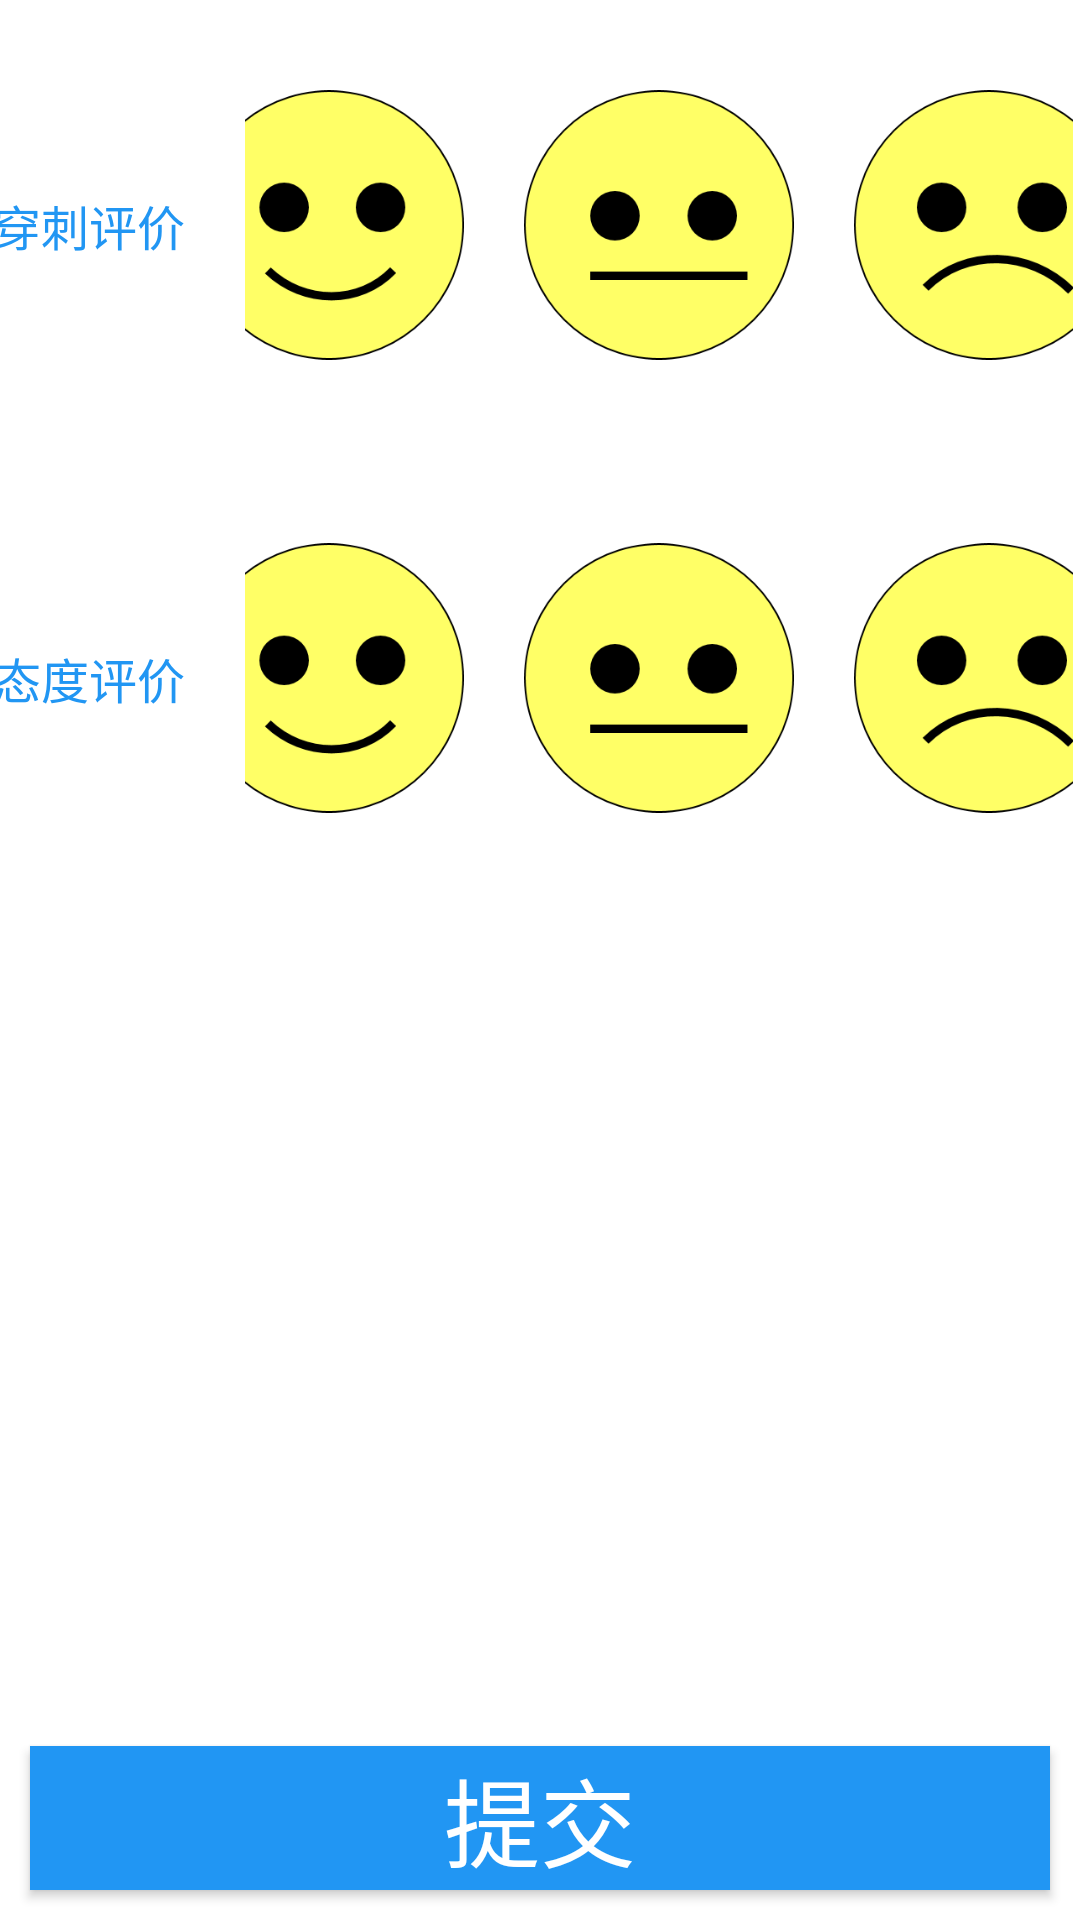

Named icons in this screenshot (1080 x 1920) and their centers, (x=x, y=y):
good: (x=354, y=225), (x=354, y=678)
soso: (x=659, y=225), (x=659, y=678)
